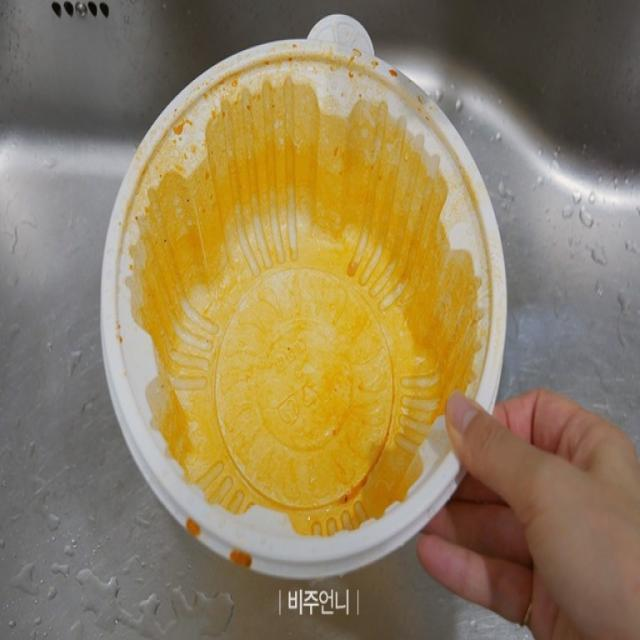disposable: (106, 0, 537, 609)
